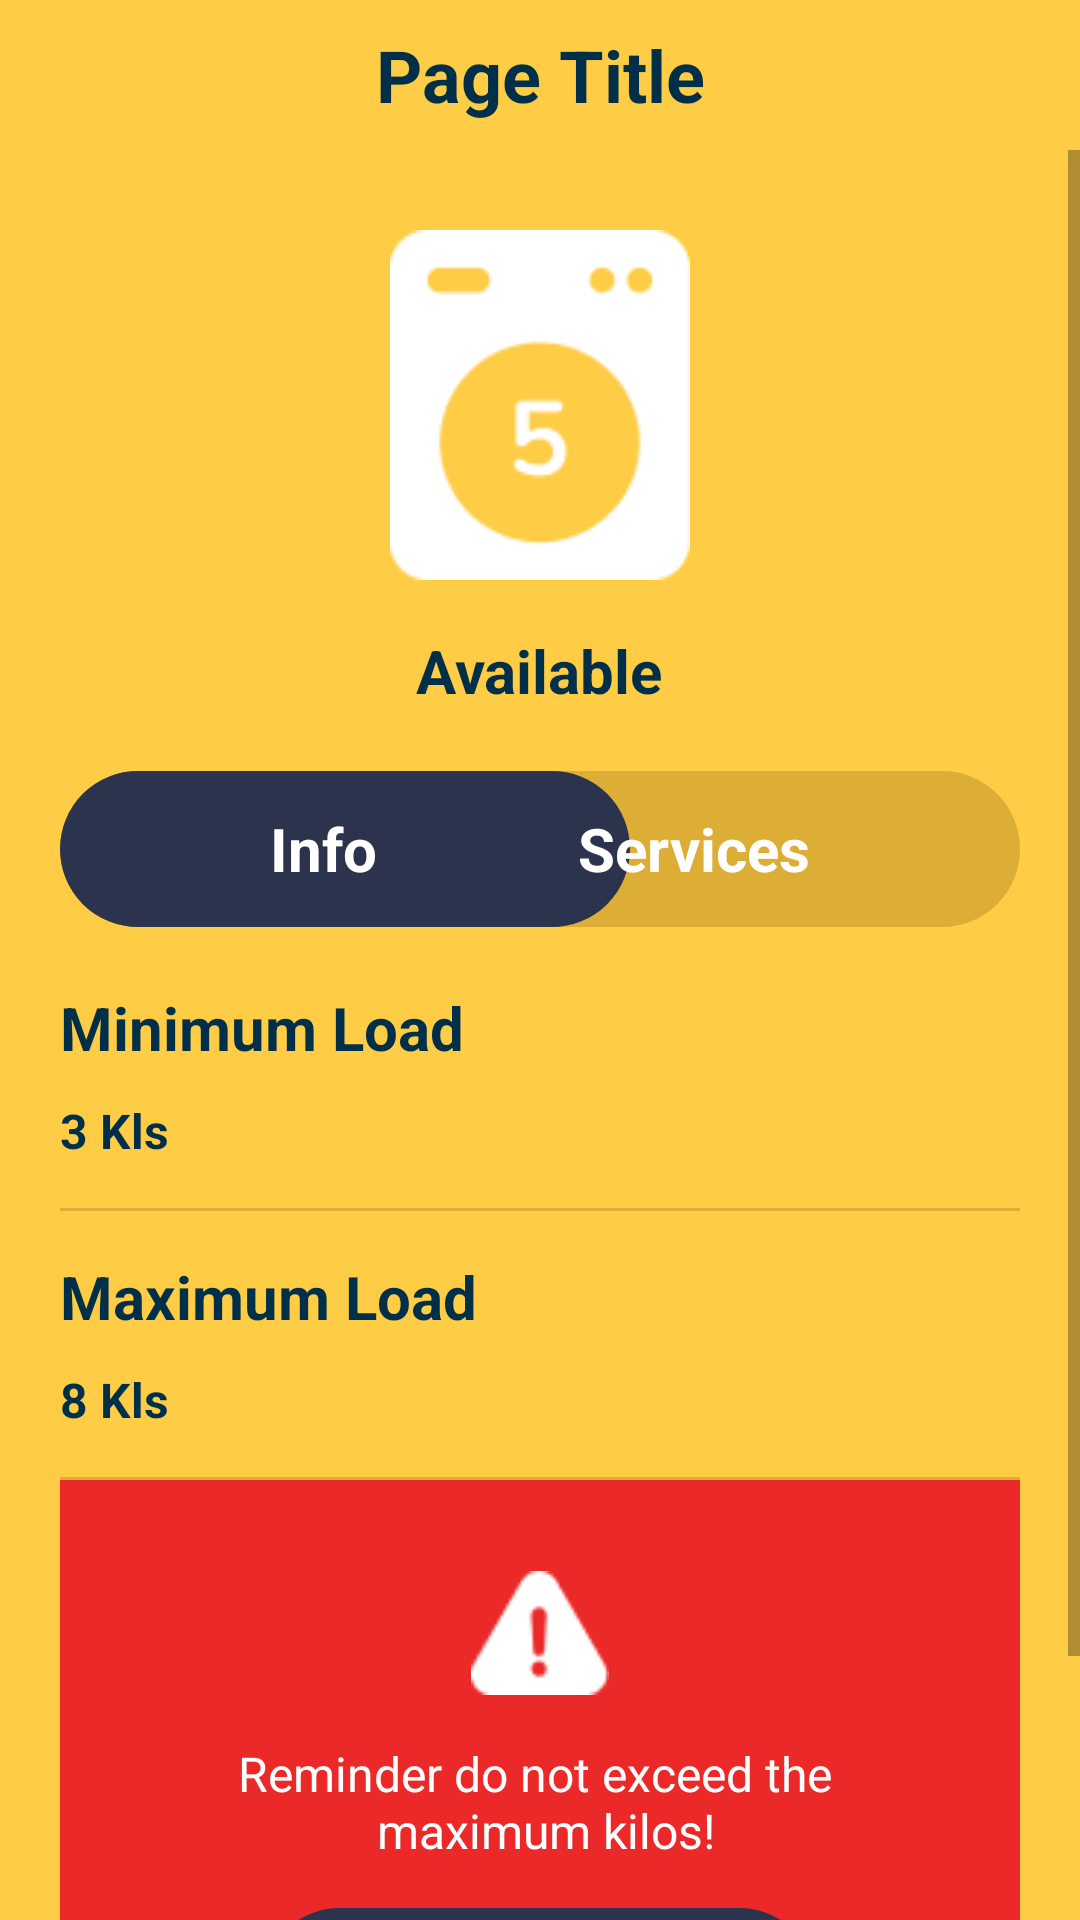

Named icons in this screenshot (1080 x 1920) and their bounding boxes, (x1, y1, x2, y2):
machine: (390, 230, 690, 580)
warning: (471, 1571, 609, 1695)
